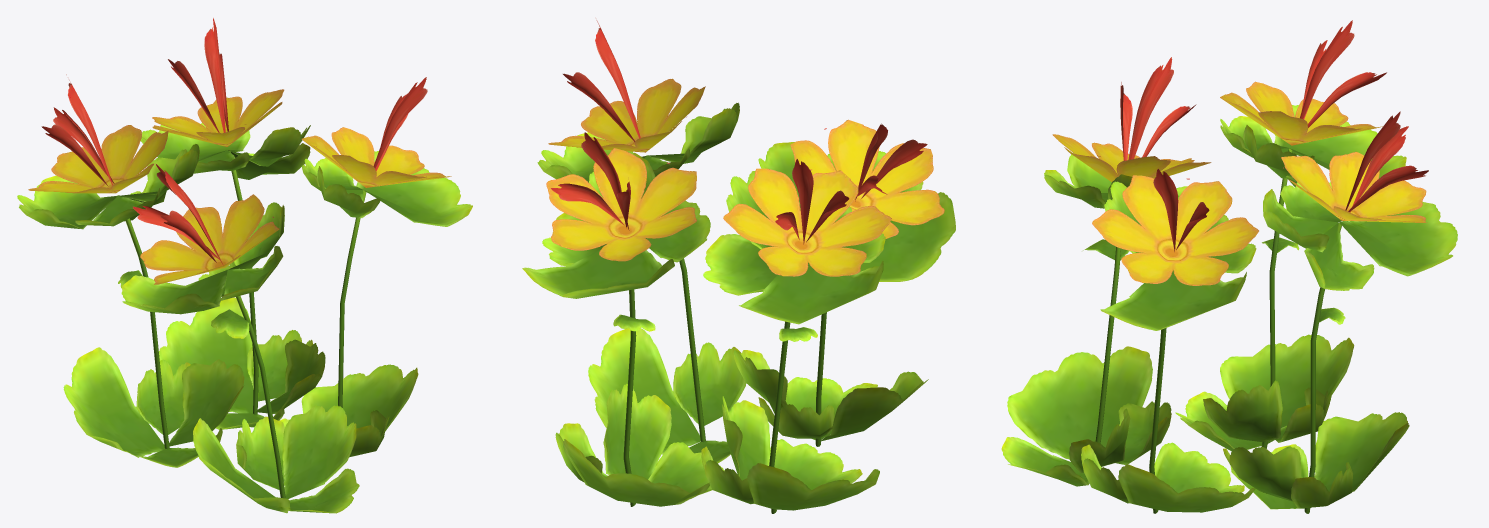
The model's file is Flower_7_Group.glb.
3 views of the same model, side by side, from view 1: azimuth 30°, elevation 25°; view 2: azimuth 150°, elevation 25°; view 3: azimuth 270°, elevation 25° (orthographic). The views are drawn at different scales.
Parts seen in each view (by area): view 1: Flower_7_Group; view 2: Flower_7_Group; view 3: Flower_7_Group.
Part boxes in pixels (x1,y1,x2,y2): Flower_7_Group: [17, 18, 472, 513]; Flower_7_Group: [522, 20, 955, 513]; Flower_7_Group: [1001, 20, 1457, 513].
Size of the model in its own units: 1.84 by 1.71 by 1.84.
2 materials, 2 textured.
